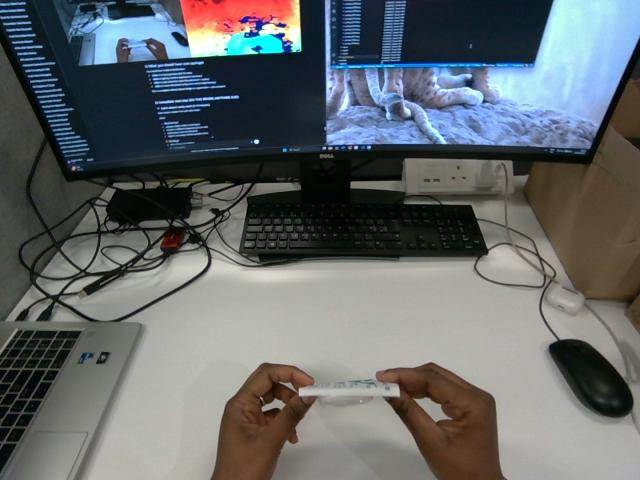gauze: (299, 379, 399, 405), (298, 379, 399, 396)
